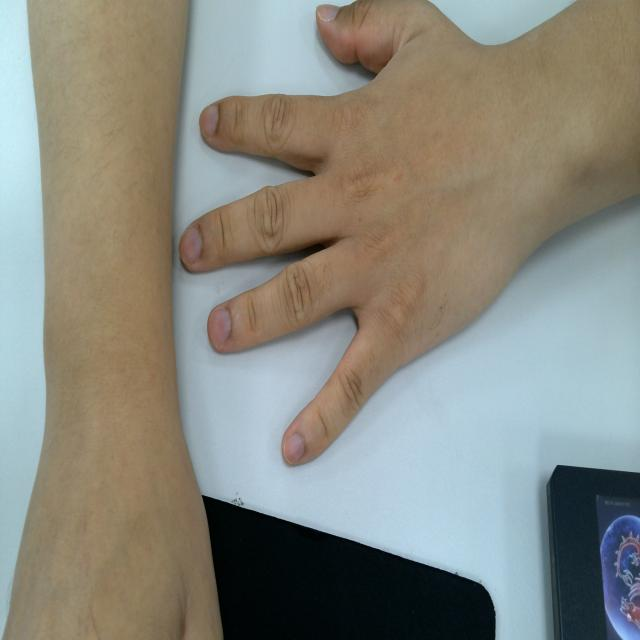Paper: (212, 8, 498, 483)
